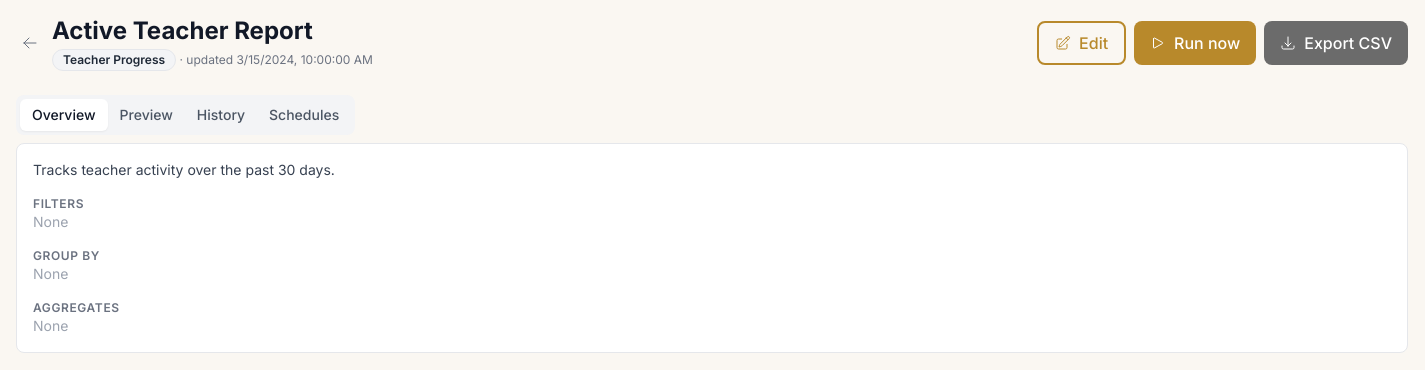
Scenario: ReportBuilderDetailPage › Schedules tab: renders schedule cadence and time
expect the heading "Active Teacher Report" is shown: met, box [52,16,313,45]
Step 1. Click the tab "Schedules" → {"x": 304, "y": 115}, box [257,99,351,131]
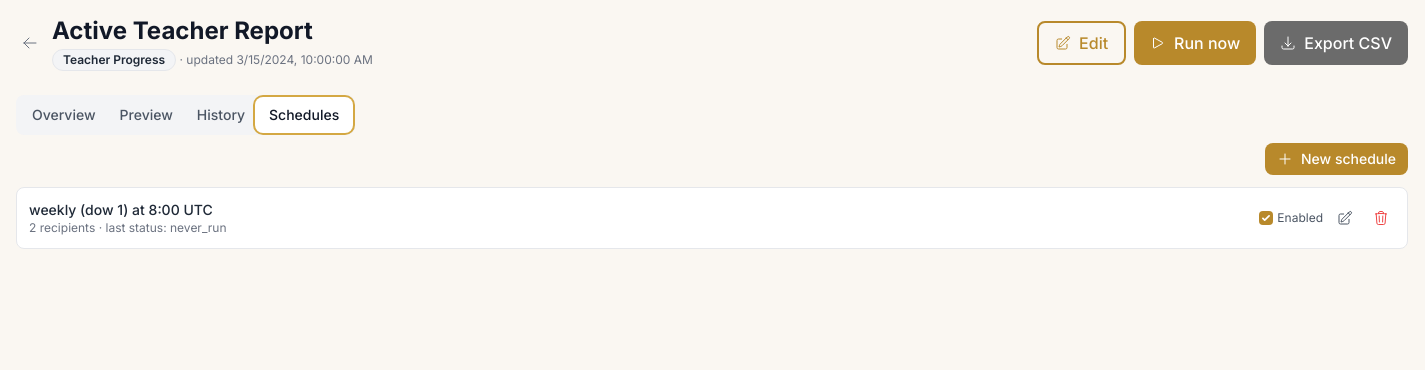
expect the text "weekly (dow 1) at 8:00 UTC" is shown: met, box [29,200,226,220]
